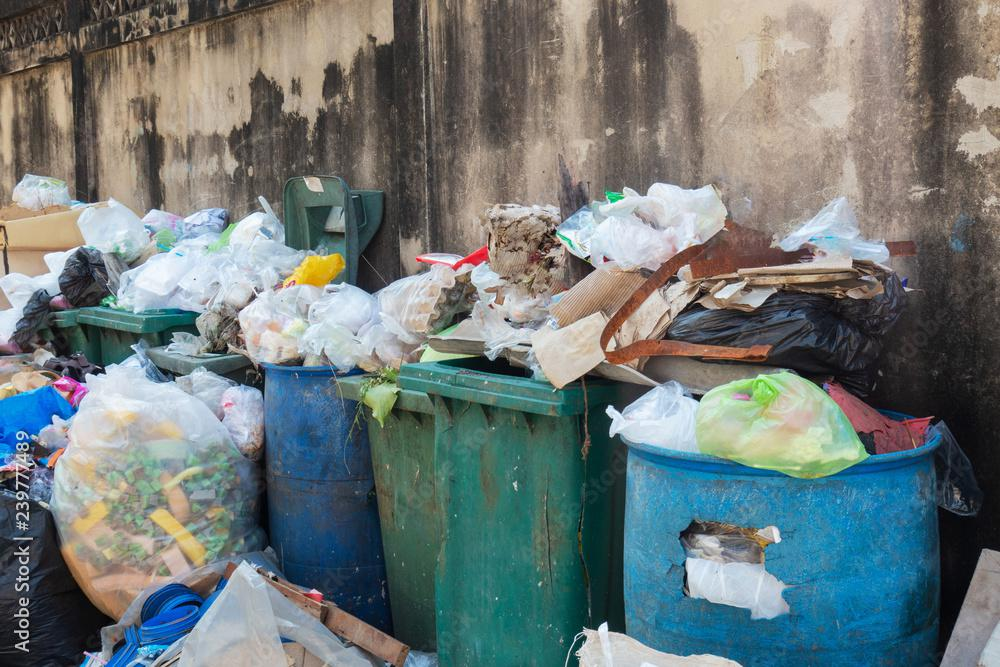Container: (369, 368, 616, 667), (629, 445, 947, 667), (261, 361, 406, 610), (59, 302, 248, 380), (289, 175, 382, 270)
Garbage: (575, 195, 900, 381), (76, 374, 264, 627), (52, 557, 422, 665), (388, 212, 616, 367), (625, 367, 921, 453), (5, 173, 144, 304), (119, 210, 296, 302), (235, 274, 395, 358), (7, 372, 86, 435), (0, 276, 53, 345)
